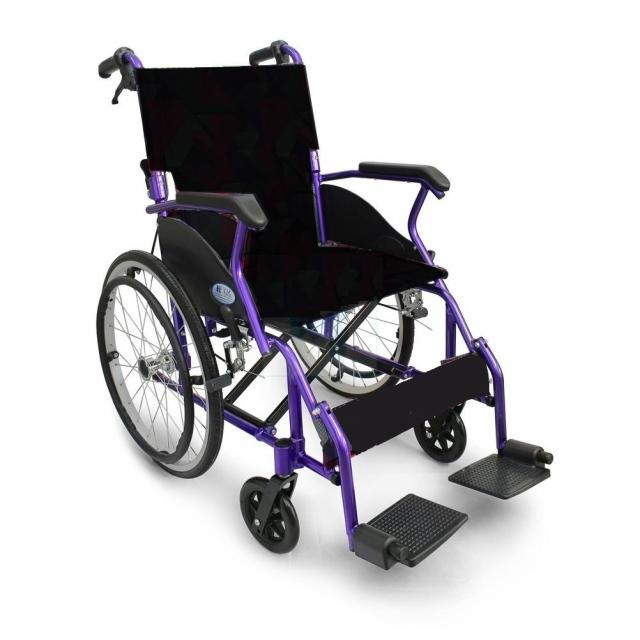wheelchair: (84, 12, 572, 588)
